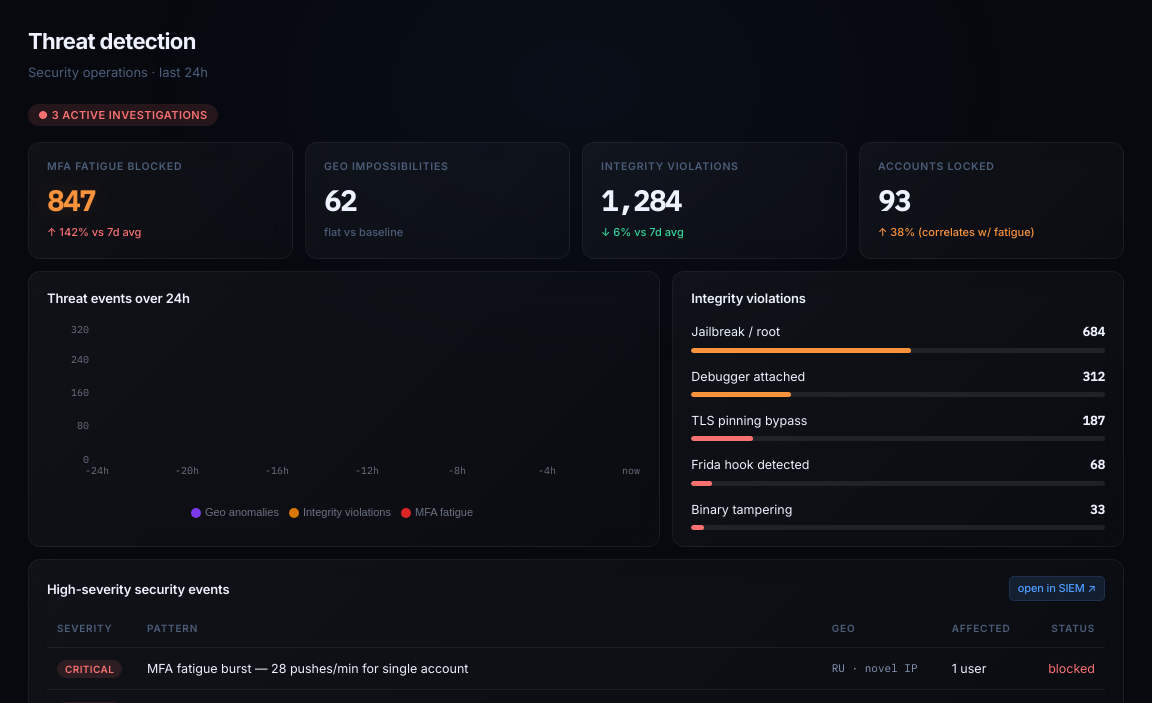
Test case: SecurityDashboard — severity filter › toggling the same badge clears the filter
Click the button "critical" in the row of "RU · novel IP" at [90, 669], box [57,660,122,678]
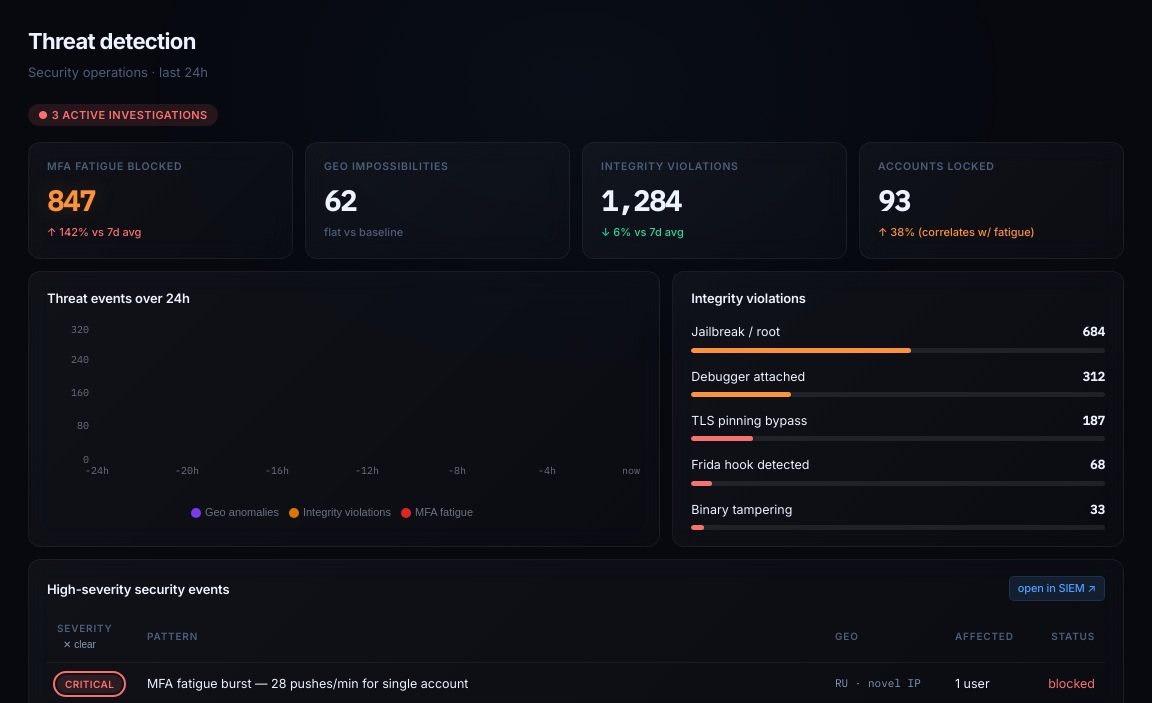
Note: Click same button again (outline means it's active)
Click the button "critical" in the row of "RU · novel IP" at [90, 684], box [57,675,122,693]
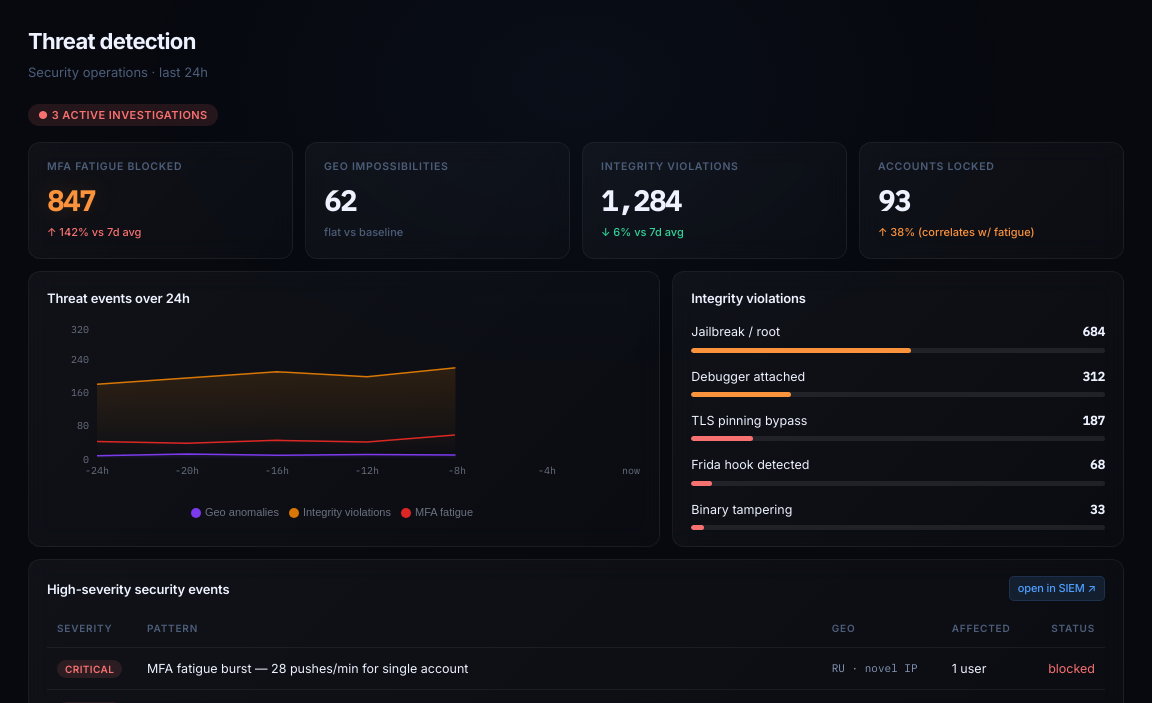
Now the button "clear" is gone
